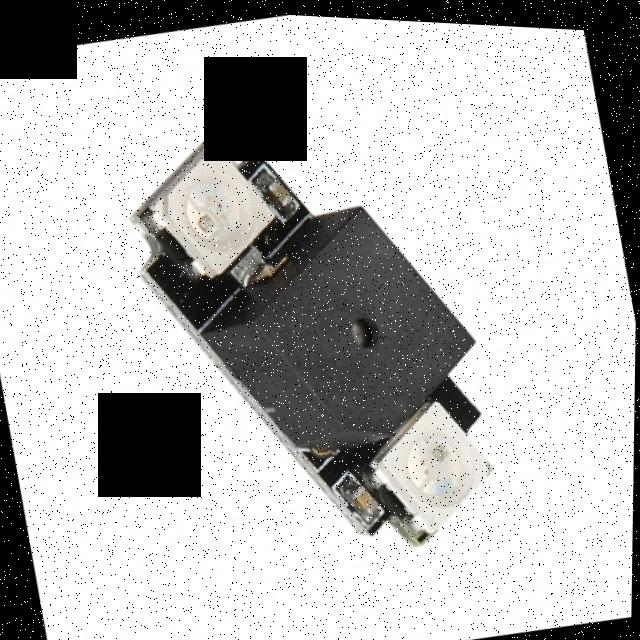LED: (364, 398, 513, 557), (127, 138, 280, 288)
buzzer: (212, 186, 493, 485)
capacitor 1V5: (341, 475, 390, 530), (266, 171, 299, 211)
